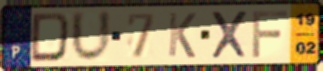7: (125, 12, 157, 60)
D: (28, 11, 73, 64)
F: (250, 9, 290, 59)
K: (166, 11, 198, 60)
U: (70, 8, 114, 64)
X: (209, 9, 250, 60)
